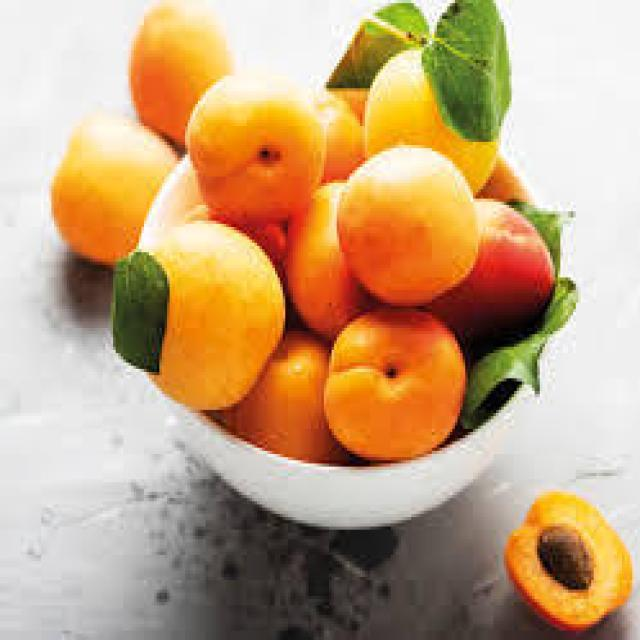cekirdek: (531, 522, 605, 601)
kayisi: (145, 217, 291, 414), (317, 293, 474, 473), (177, 61, 336, 232), (331, 138, 488, 308), (45, 99, 180, 276), (494, 491, 636, 639)
yaprak: (415, 0, 515, 149), (105, 244, 173, 379)
